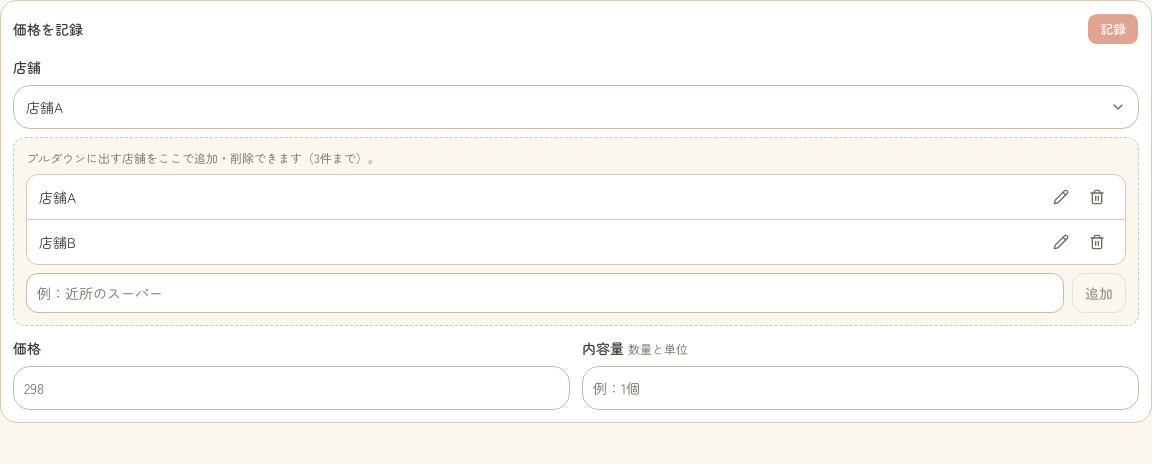
Test: PriceRecordForm › PRF-05: 表記ゆれ（前後空白）でも同名として警告する
The image size is (1152, 464).
Expected: the text "プルダウンに出す店舗をここで追加・削除できます（3件まで）。" is shown, left=26, top=149, right=380, bottom=166
Type "  店舗A  " into the field named "追加する店舗名" at (545, 293), box left=26, top=273, right=1064, bottom=313
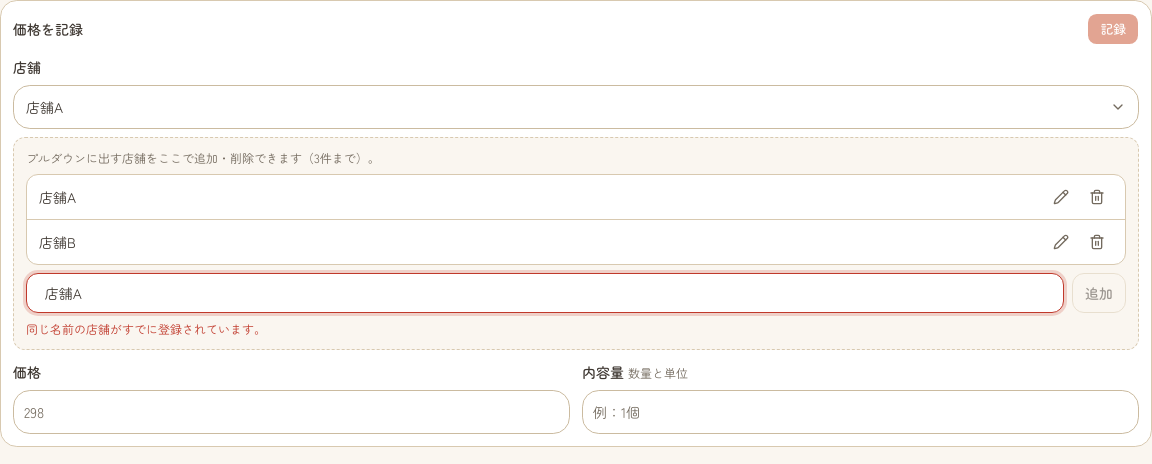
Expected: the text "同じ名前の店舗がすでに登録されています。" is shown, left=26, top=320, right=266, bottom=337
